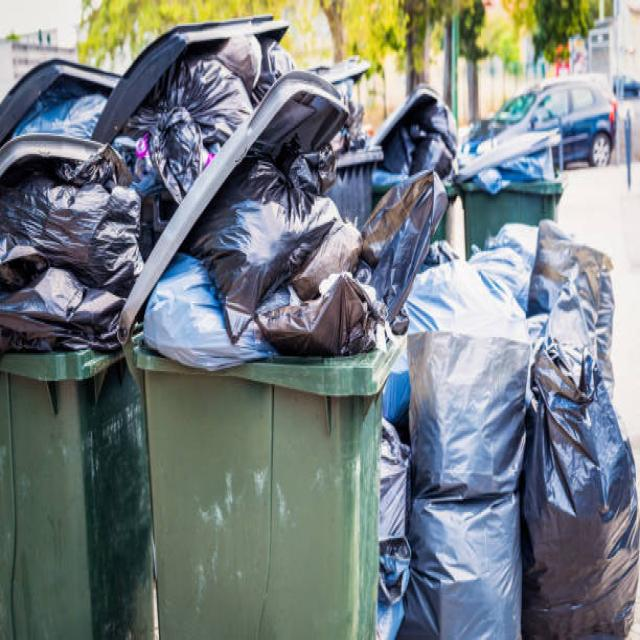garbage: (0, 14, 639, 638), (0, 15, 450, 368), (379, 217, 639, 638), (0, 347, 155, 638), (521, 336, 639, 638)
